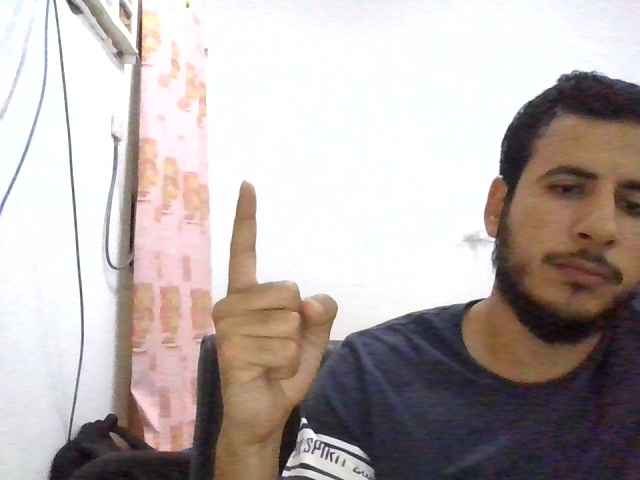One: (212, 180, 337, 436)
